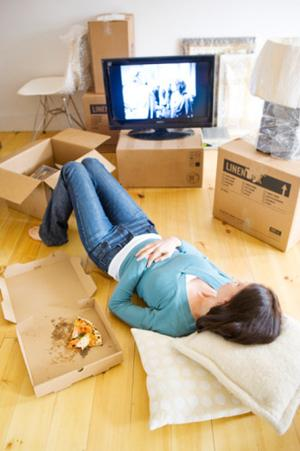person: (28, 157, 284, 345)
